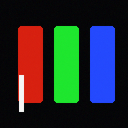4 line_v: (19, 75, 23, 111)
